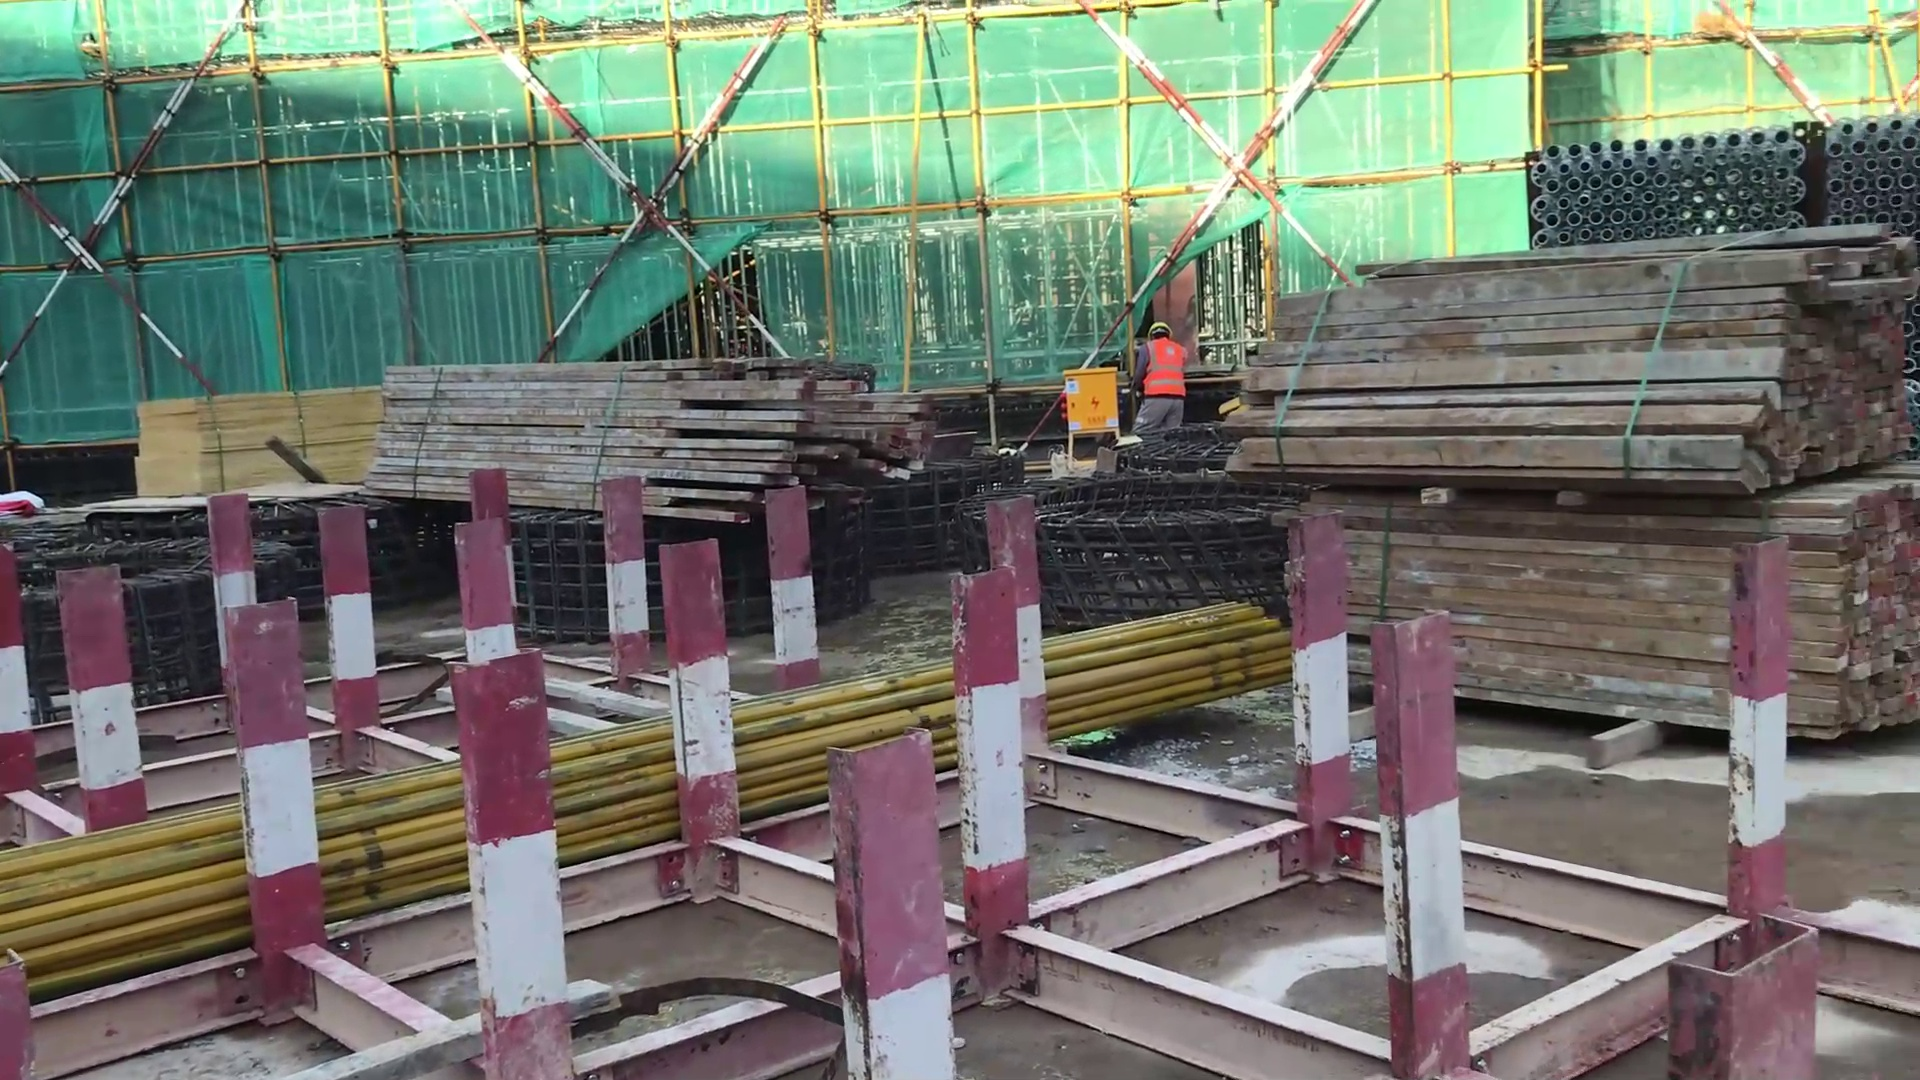ebox: (1052, 361, 1132, 456)
person: (1133, 314, 1194, 424)
vest: (1132, 329, 1188, 397)
wood: (1238, 241, 1920, 723), (361, 346, 969, 524)
